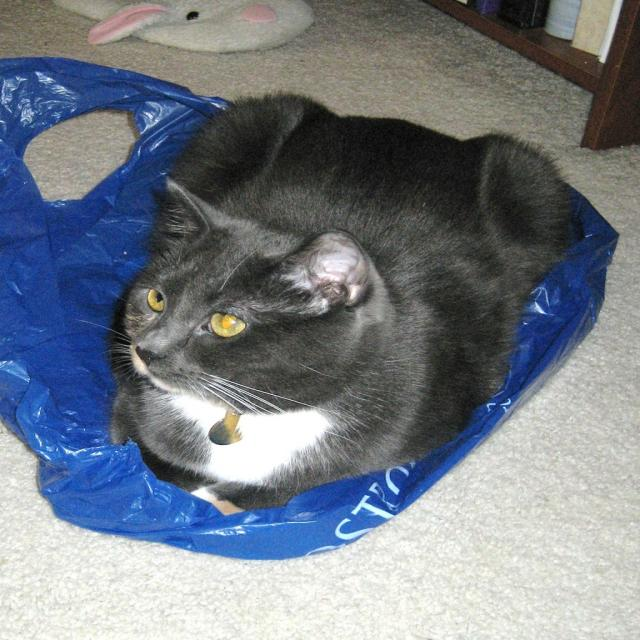Cat: (64, 88, 590, 520)
